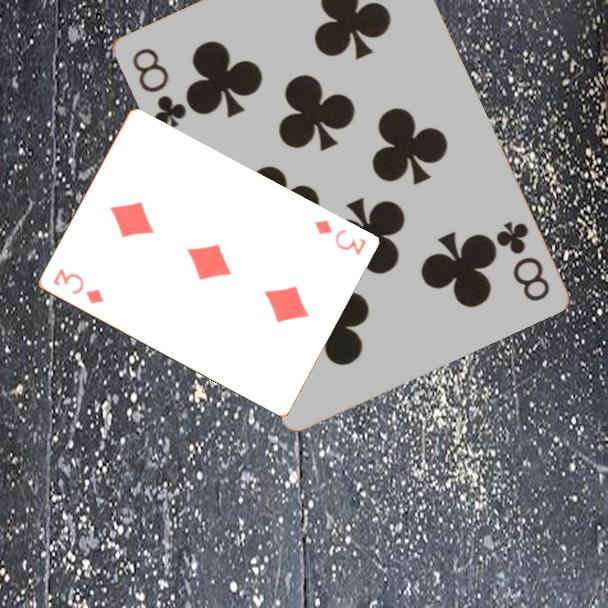c08: (128, 44, 189, 132), (492, 217, 552, 305)
d03: (310, 216, 369, 258), (49, 265, 106, 307)
